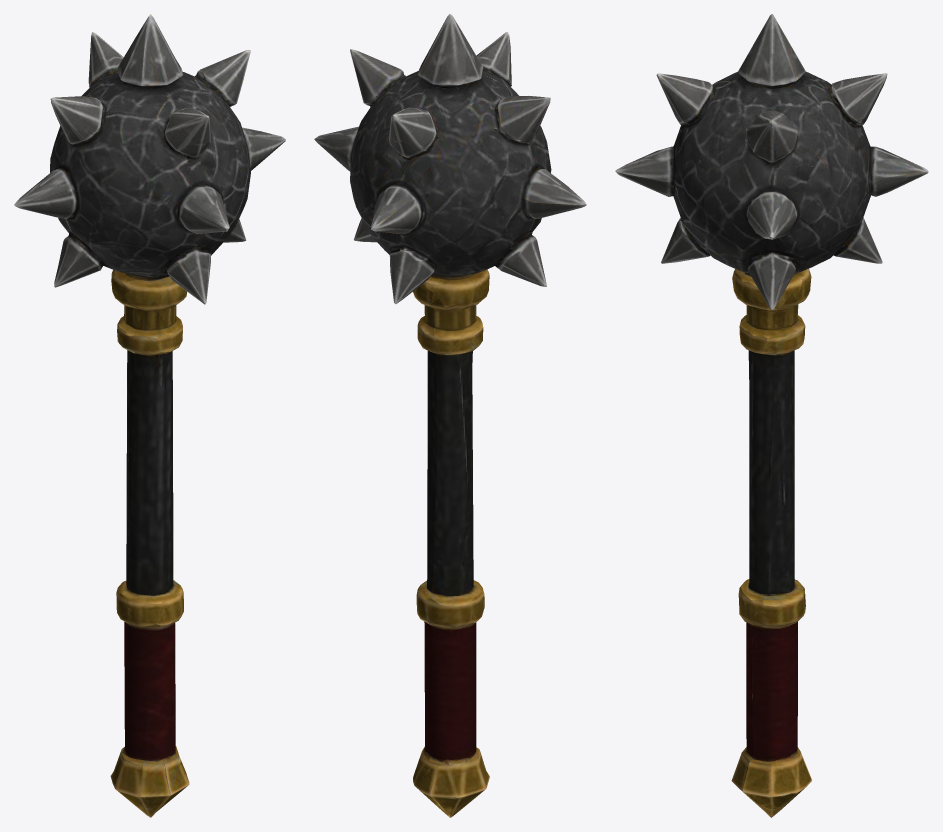
The model's file is penitent_mace.glb.
The picture shows the model from 3 angles, left to right: view 1: azimuth 30°, elevation 25°; view 2: azimuth 150°, elevation 25°; view 3: azimuth 270°, elevation 25°; orthographic projection.
Size of the model in its own units: 0.492 by 1.39 by 0.4918.
Materials: 1 (1 with a texture image).
